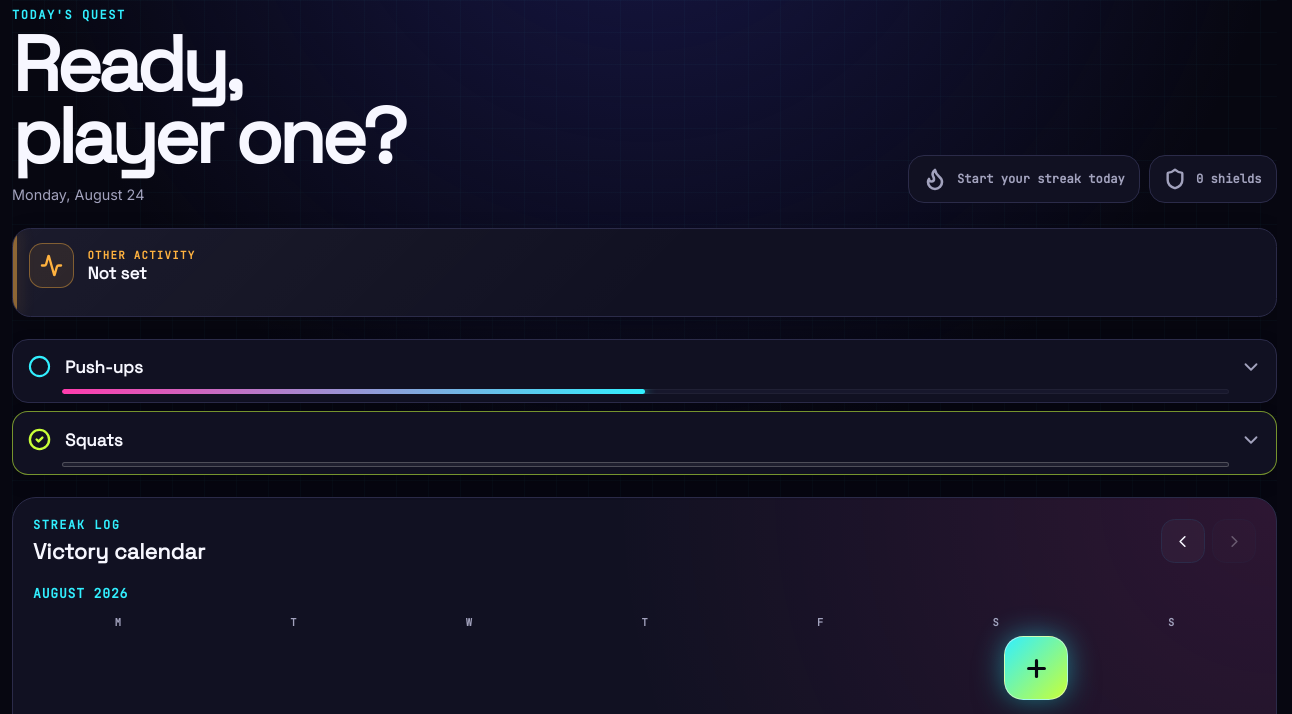
Test: today’s arcade training dashboard › keeps every quest compact until the athlete chooses one to train
Click the button with test id "exercise-toggle-push-ups".
click(104, 367)  # box [12, 338, 1277, 402]
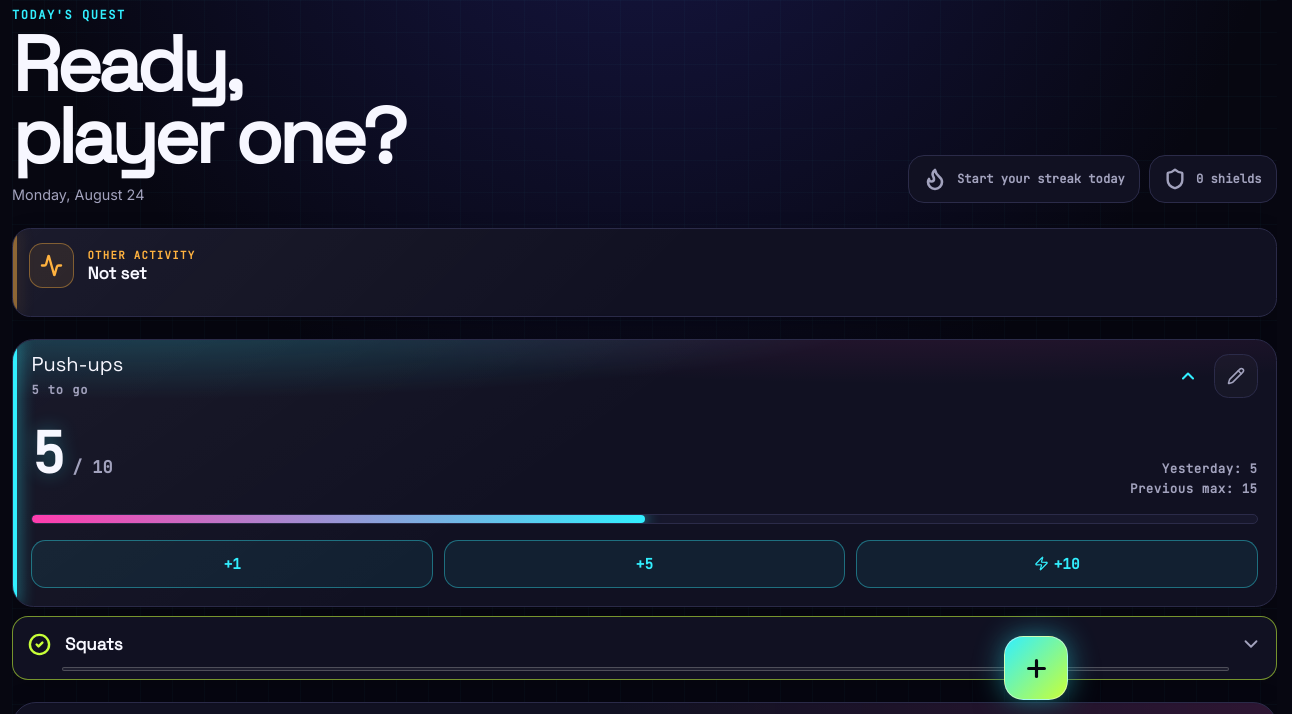
Check: the button with test id "exercise-collapse-push-ups" is shown, box [13, 340, 1276, 412]
Click the button with test id "exercise-toggle-squats".
click(94, 644)  # box [12, 616, 1277, 680]
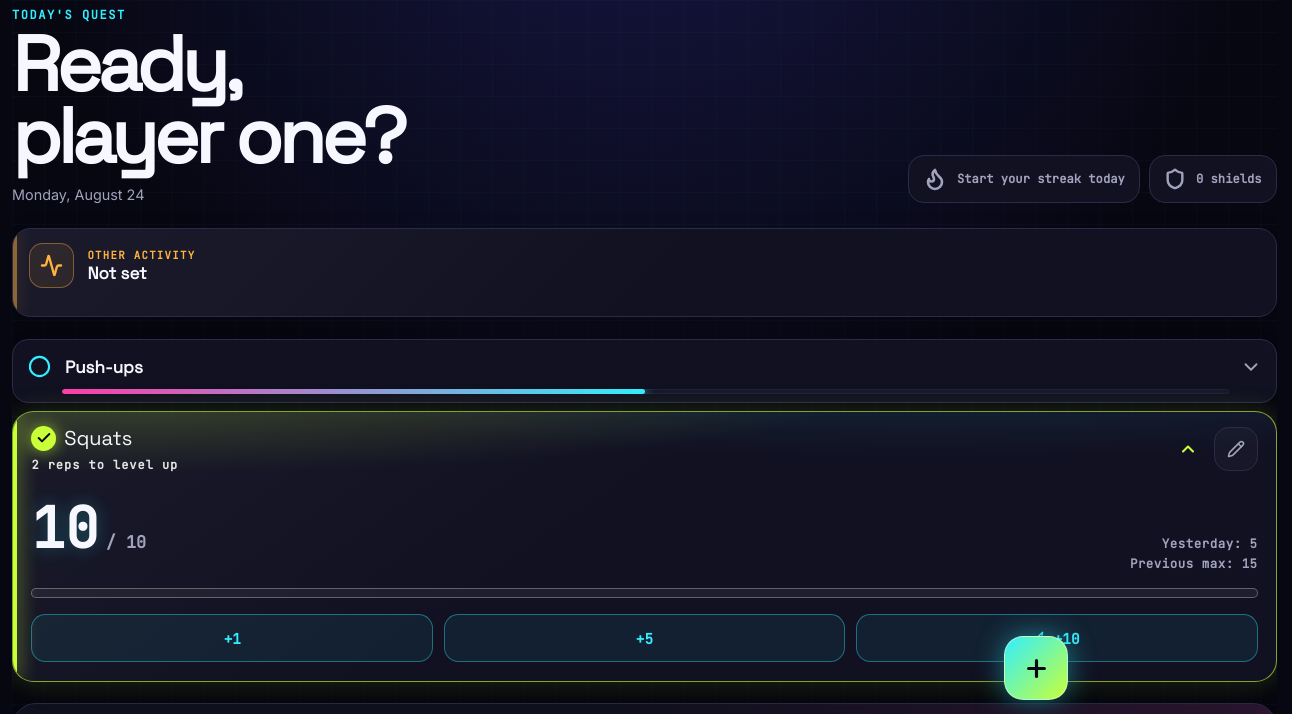
Check: the button with test id "exercise-toggle-push-ups" is shown, box [12, 338, 1277, 402]
Check: the number of elements with class "exercise-card" is 1, box [12, 411, 1277, 682]
Click the button with test id "exercise-collapse-squats".
click(98, 438)  # box [13, 412, 1276, 487]
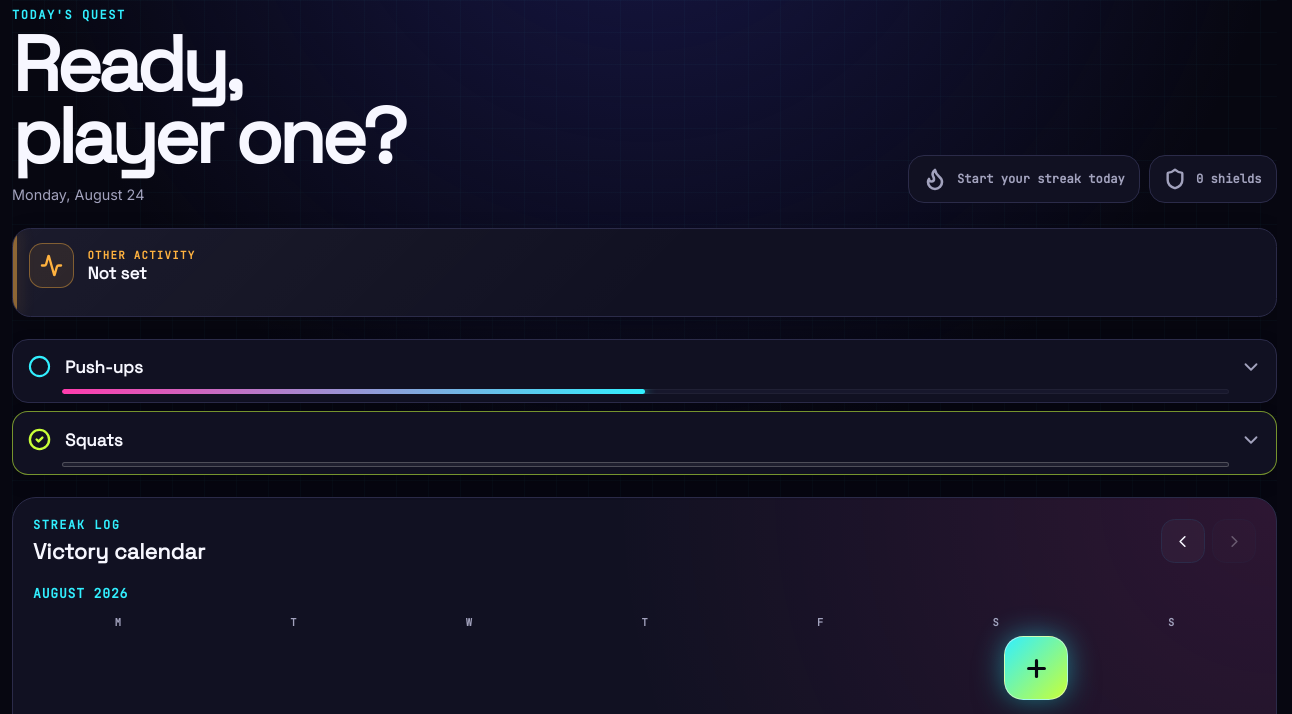
Check: the button with test id "exercise-toggle-squats" is shown, box [12, 411, 1277, 475]
Check: no elements with class "exercise-card" are shown
